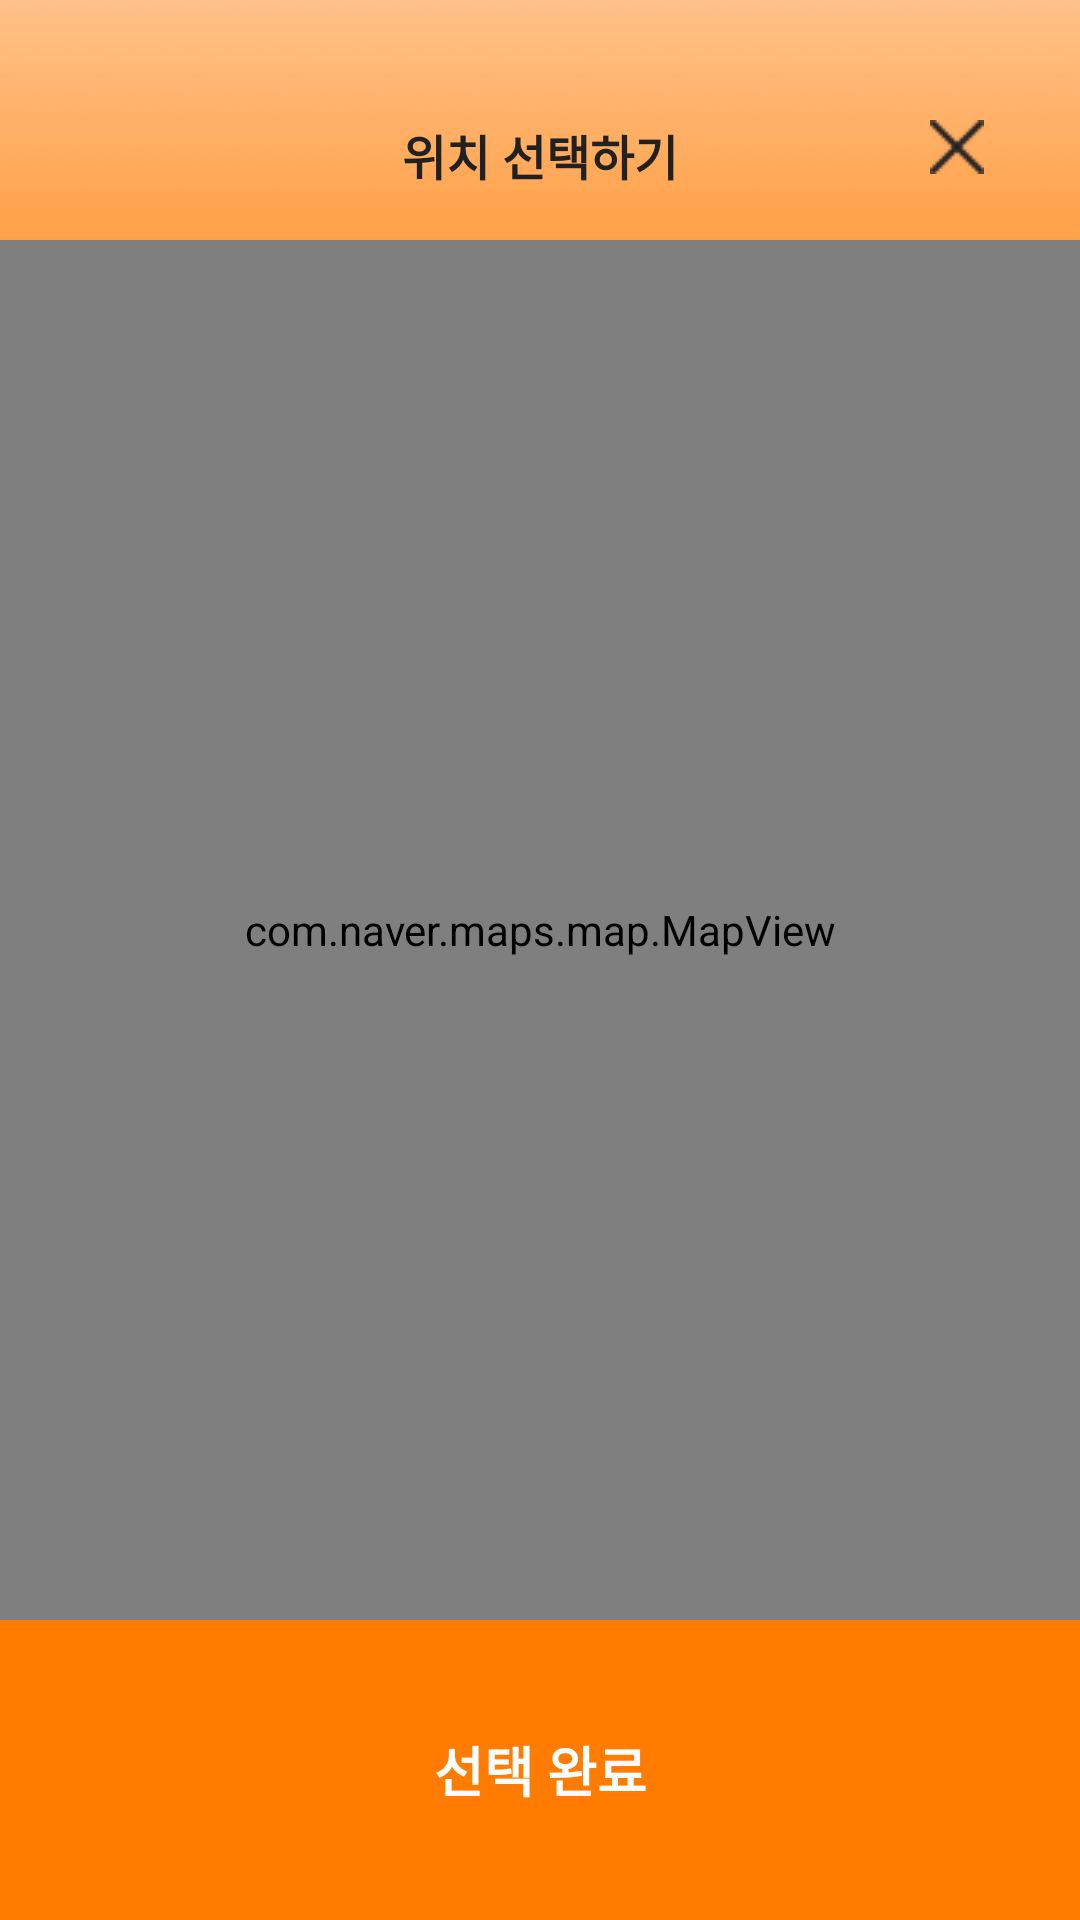

Screen size 1080×1920. Icon name, then its box in pixels as (x1, y1, x2, y2):
close: (930, 120, 984, 174)
